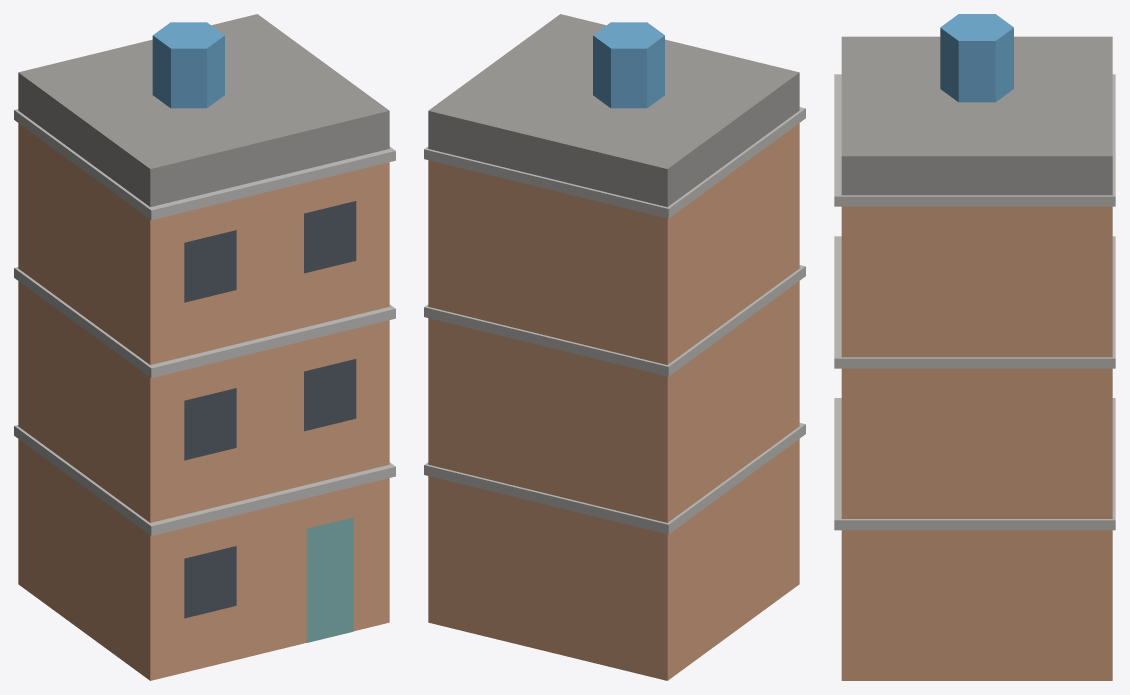
3 views of the same model, side by side, from view 1: azimuth 30°, elevation 25°; view 2: azimuth 150°, elevation 25°; view 3: azimuth 270°, elevation 25° (orthographic). The views are drawn at different scales.
Parts seen in each view (by area): view 1: fv_h07.lod1; view 2: fv_h07.lod1; view 3: fv_h07.lod1.
Part boxes in pixels (x1,y1,x2,y2): fv_h07.lod1: (14,14,395,680); fv_h07.lod1: (424,14,805,680); fv_h07.lod1: (834,14,1115,680).
Bounding box in the file's own units: 4.7 × 10.5 × 4.57.
